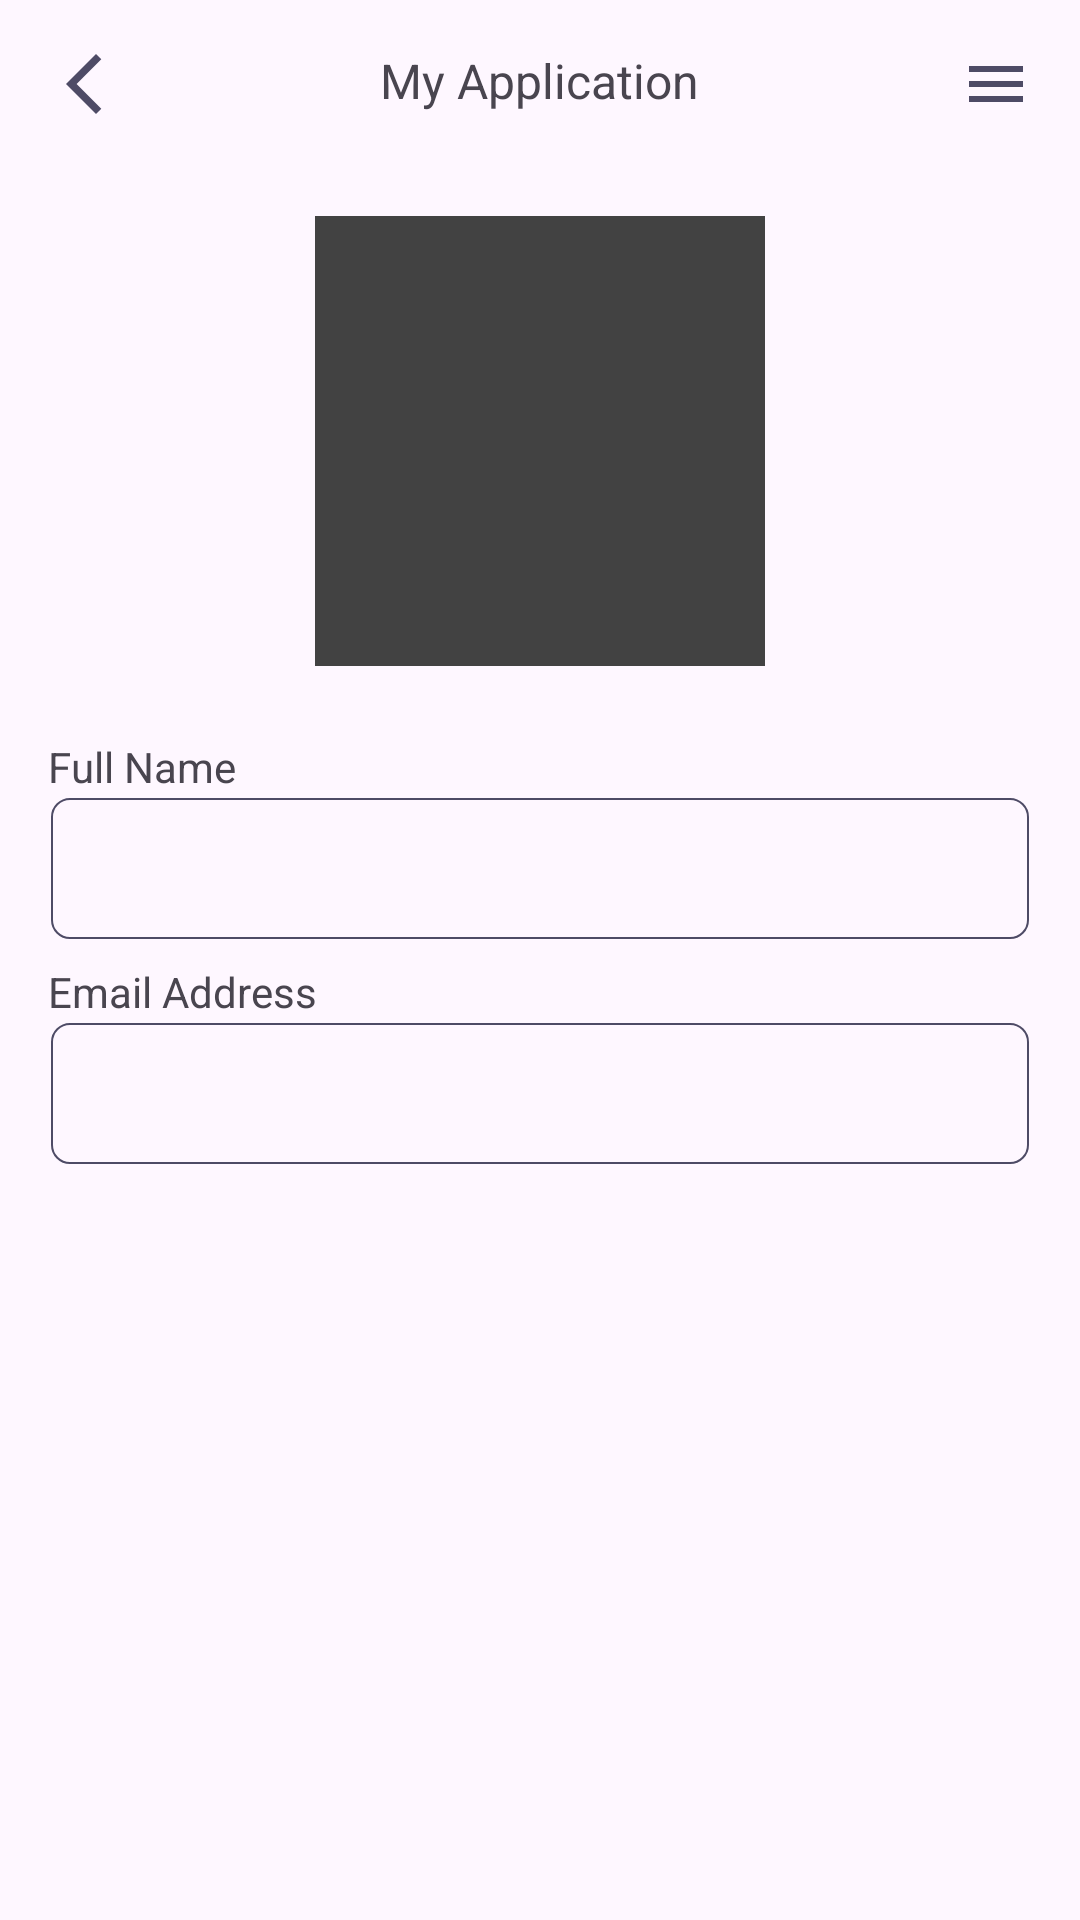

Screen size 1080×1920. Icon name, then its center in pixels as (x=x, y=y):
arrow back: (x=83, y=84)
menu: (x=996, y=84)
